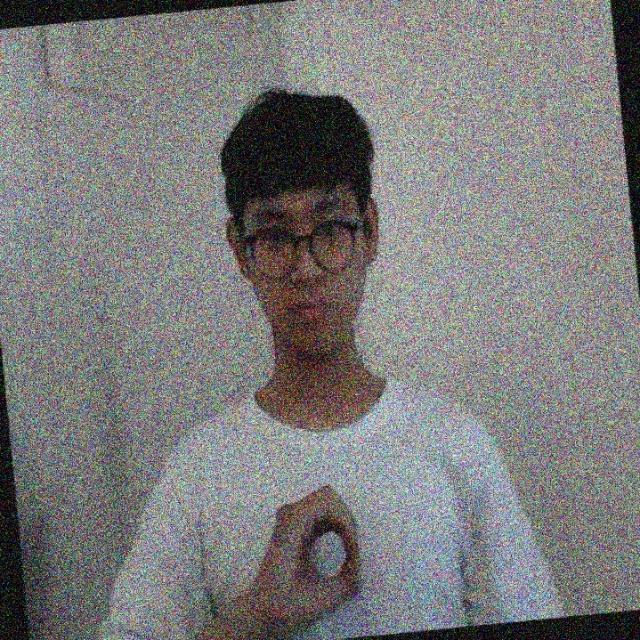O: (265, 481, 368, 623)
